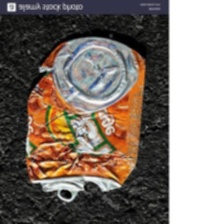can: (21, 34, 149, 205)
